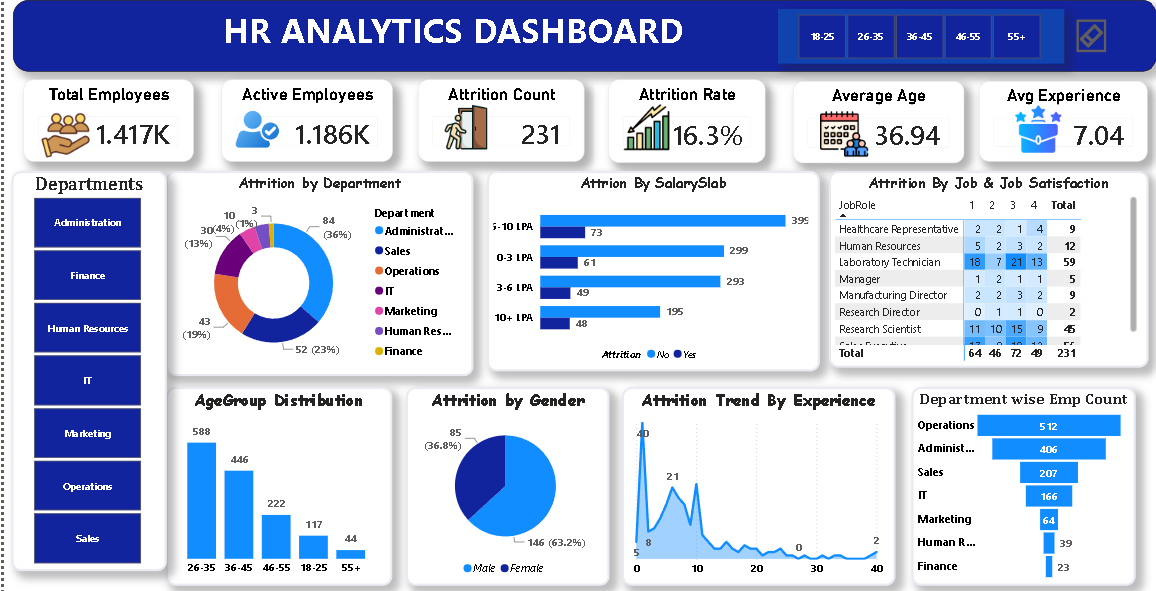

Layout of this report page (visuals, bound fields, positions):
{"tool":"powerbi","page":{"name":"Page 1","canvas":[1450,750],"ordinal":0},"visuals":[{"type":"textbox","box":[10.7,0,1439.9,90],"z":0},{"type":"cardVisual","title":"Total Employees","fields":{"Data":["CountNonNull(HR_Analytics-4 (1).EmpID)"]},"box":[24.3,100.1,213.8,103.1],"z":1000},{"type":"cardVisual","title":"Active Employees","fields":{"Data":["CountNonNull(HR_Analytics-4 (1).EmployeeCount)"]},"box":[272.9,100.1,215.3,103.1],"z":2000},{"type":"cardVisual","title":"Attrition Count","fields":{"Data":["Sum(HR_Analytics-4 (1).AttritionCount)"]},"box":[521.6,100.1,209.2,103.1],"z":3000},{"type":"cardVisual","title":"Attrition Rate","fields":{"Data":["HR_Analytics-4 (1).Attrition Rate %"]},"box":[761.1,100.1,197.1,104.6],"z":4000},{"type":"cardVisual","title":"Average Age","fields":{"Data":["Avg(HR_Analytics-4 (1).Age)"]},"box":[991.6,101.6,215.3,103.1],"z":5000},{"type":"cardVisual","title":"Avg Experience ","fields":{"Data":["Avg(HR_Analytics-4 (1).YearsatCompany)"]},"box":[1226.6,101.6,212.3,101.6],"z":6000},{"type":"donutChart","title":"Attrition by Department","fields":{"Y":["Sum(HR_Analytics-4 (1).AttritionCount)"],"Category":["HR_Analytics-4 (1).Department"]},"box":[204.7,215.3,386.6,257.8],"z":7000},{"type":"clusteredBarChart","title":"Attrion By  SalarySlab","fields":{"Category":["HR_Analytics-4 (1).SalarySlab"],"Y":["CountNonNull(HR_Analytics-4 (1).EmpID)"],"Series":["HR_Analytics-4 (1).Attrition"]},"box":[608,215.3,418.5,251.7],"z":8000},{"type":"pivotTable","title":"Attrition By Job & Job Satisfaction","fields":{"Rows":["HR_Analytics-4 (1).JobRole"],"Values":["Sum(HR_Analytics-4 (1).AttritionCount)"],"Columns":["HR_Analytics-4 (1).JobSatisfaction"]},"box":[1037.1,215.3,401.8,247.1],"z":9000},{"type":"columnChart","title":" AgeGroup Distribution ","fields":{"Category":["HR_Analytics-4 (1).AgeGroup"],"Y":["CountNonNull(HR_Analytics-4 (1).EmpID)"]},"box":[204.2,486.4,284.5,250.1],"z":10000},{"type":"pieChart","title":"Attrition by Gender","fields":{"Category":["HR_Analytics-4 (1).Gender"],"Y":["Sum(HR_Analytics-4 (1).AttritionCount)"]},"box":[504.9,486.7,256.2,250.2],"z":11000},{"type":"areaChart","title":"Attrition Trend By Experience","fields":{"Category":["HR_Analytics-4 (1).TotalExperience(Years)"],"Y2":["Sum(HR_Analytics-4 (1).AttritionCount)"]},"box":[777.8,486.7,344.2,250.2],"z":12000},{"type":"funnel","title":"Department wise Emp Count","fields":{"Category":["HR_Analytics-4 (1).Department"],"Y":["CountNonNull(HR_Analytics-4 (1).EmpID)"]},"box":[1141.7,486.7,282,250.2],"z":13000},{"type":"slicer","title":"Departments","fields":{"Values":["HR_Analytics-4 (1).Department"]},"box":[9.1,215.3,195.6,503.4],"z":14000},{"type":"image","box":[47,113.7,60.6,113.7],"z":15000},{"type":"image","box":[291.1,112.2,56.1,103.1],"z":16000},{"type":"image","box":[551.9,77.3,56.1,165.3],"z":17000},{"type":"image","box":[777.8,95.5,62.2,130.4],"z":18000},{"type":"image","box":[1026.5,131.9,60.6,72.8],"z":19000},{"type":"image","box":[1255.4,128.9,92.5,68.2],"z":20000},{"type":"slicer","title":"Departments","fields":{"Values":["HR_Analytics-4 (1).AgeGroup"]},"box":[972.8,11.5,360.2,68.8],"z":21000},{"type":"actionButton","box":[1348.9,25,37.5,41],"z":22000}]}

Visuals, with their boxes in screenshot pixels (x1, y1, x2, y2), scaled from the page's 1450x750 canvas onto the 1156x591 screenshot:
textbox: pyautogui.locateOnScreen(9, 0, 1155, 71)
"Total Employees" cardVisual: pyautogui.locateOnScreen(19, 79, 190, 160)
"Active Employees" cardVisual: pyautogui.locateOnScreen(218, 79, 389, 160)
"Attrition Count" cardVisual: pyautogui.locateOnScreen(416, 79, 583, 160)
"Attrition Rate" cardVisual: pyautogui.locateOnScreen(607, 79, 764, 161)
"Average Age" cardVisual: pyautogui.locateOnScreen(791, 80, 962, 161)
"Avg Experience " cardVisual: pyautogui.locateOnScreen(978, 80, 1147, 160)
"Attrition by Department" donutChart: pyautogui.locateOnScreen(163, 170, 471, 373)
"Attrion By  SalarySlab" clusteredBarChart: pyautogui.locateOnScreen(485, 170, 818, 368)
"Attrition By Job & Job Satisfaction" pivotTable: pyautogui.locateOnScreen(827, 170, 1147, 364)
" AgeGroup Distribution " columnChart: pyautogui.locateOnScreen(163, 383, 390, 580)
"Attrition by Gender" pieChart: pyautogui.locateOnScreen(403, 384, 607, 581)
"Attrition Trend By Experience" areaChart: pyautogui.locateOnScreen(620, 384, 895, 581)
"Department wise Emp Count" funnel: pyautogui.locateOnScreen(910, 384, 1135, 581)
"Departments" slicer: pyautogui.locateOnScreen(7, 170, 163, 566)
image: pyautogui.locateOnScreen(37, 90, 86, 179)
image: pyautogui.locateOnScreen(232, 88, 277, 170)
image: pyautogui.locateOnScreen(440, 61, 485, 191)
image: pyautogui.locateOnScreen(620, 75, 670, 178)
image: pyautogui.locateOnScreen(818, 104, 867, 161)
image: pyautogui.locateOnScreen(1001, 102, 1075, 155)
"Departments" slicer: pyautogui.locateOnScreen(776, 9, 1063, 63)
actionButton: pyautogui.locateOnScreen(1075, 20, 1105, 52)
